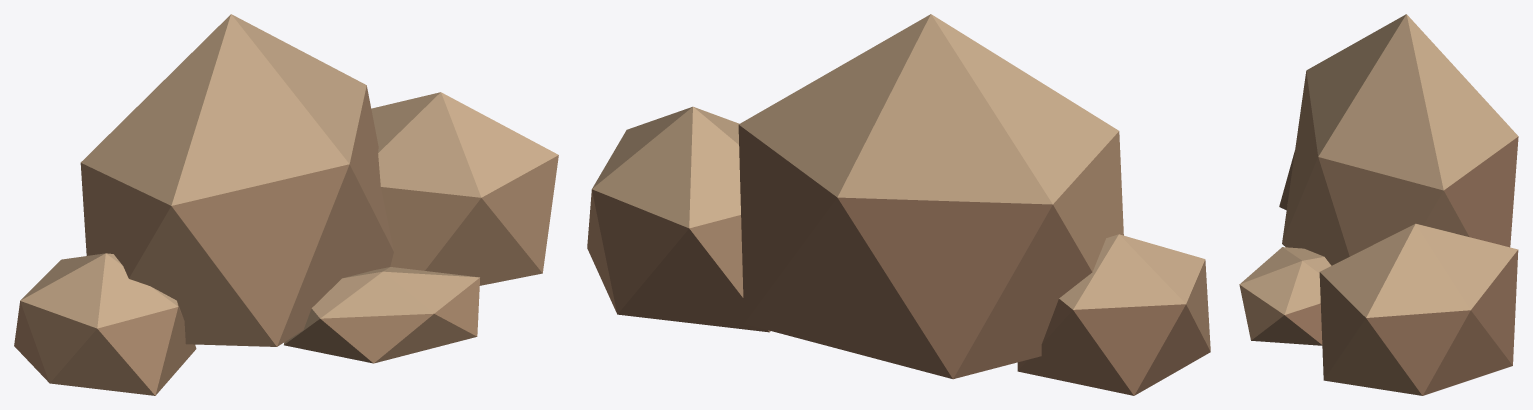
The model's file is rock.glb.
The picture shows the model from 3 angles, left to right: view 1: azimuth 30°, elevation 25°; view 2: azimuth 150°, elevation 25°; view 3: azimuth 270°, elevation 25°; orthographic projection. The views are drawn at different scales.
Visible parts, largest first — view 1: rock; view 2: rock; view 3: rock.
Part boxes in pixels (box(x1,y1,x2,y2)): rock: box(14, 14, 558, 395); rock: box(587, 14, 1210, 395); rock: box(1239, 14, 1518, 395).
Bounding box in the file's own units: 5.94 × 3.16 × 3.08.
